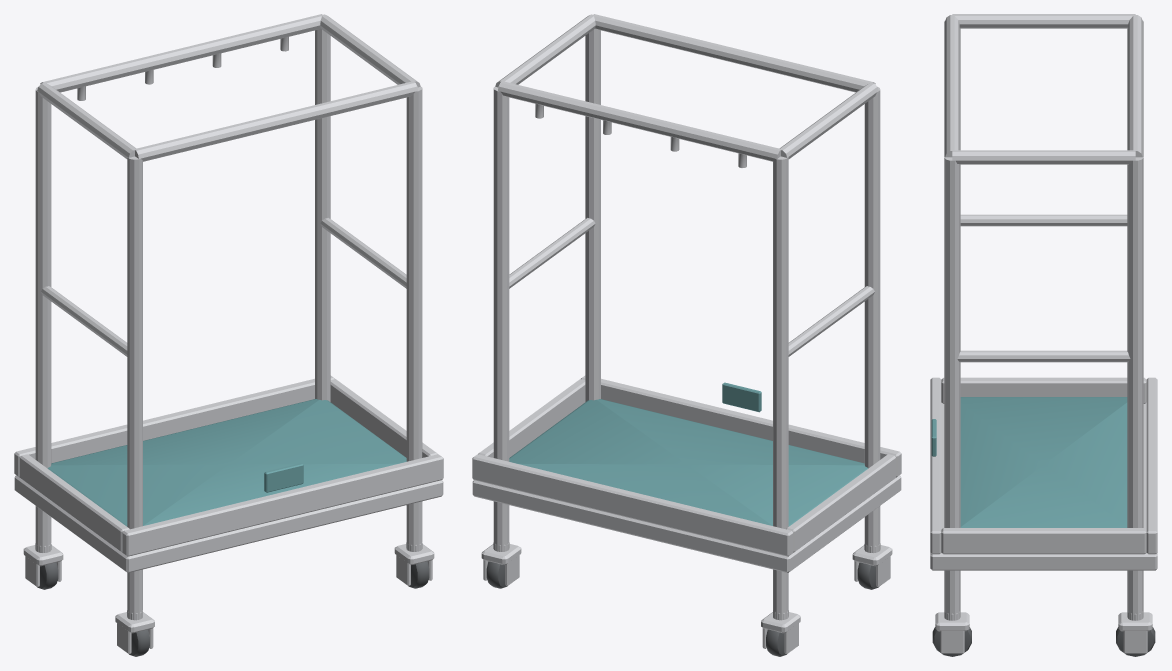
Rendered from hotel-and-resort-operations-bell-trolley-f76991ac__25862.glb.
3 renders of one model, left to right at view 1: azimuth 30°, elevation 25°; view 2: azimuth 150°, elevation 25°; view 3: azimuth 270°, elevation 25°, orthographic.
Visible parts, largest first — view 1: bell-trolley, castor-lb, castor-rf, castor-lf; view 2: bell-trolley, castor-lf, castor-rb, castor-lb; view 3: bell-trolley, castor-rb (×2), castor-rf (×2).
Part boxes in pixels (box(x1,y1,x2,y2)): bell-trolley: box(14, 14, 443, 620); castor-lb: box(23, 543, 63, 586); castor-rf: box(394, 542, 434, 585); castor-lf: box(115, 610, 154, 654); bell-trolley: box(472, 14, 901, 620); castor-lf: box(852, 543, 892, 586); castor-rb: box(481, 542, 521, 585); castor-lb: box(761, 610, 800, 654); bell-trolley: box(930, 14, 1157, 620); castor-rb (×2): box(1116, 611, 1155, 656); castor-rf (×2): box(932, 611, 971, 656).
Bounding box in the file's own units: 1 × 1.52 × 0.62.
